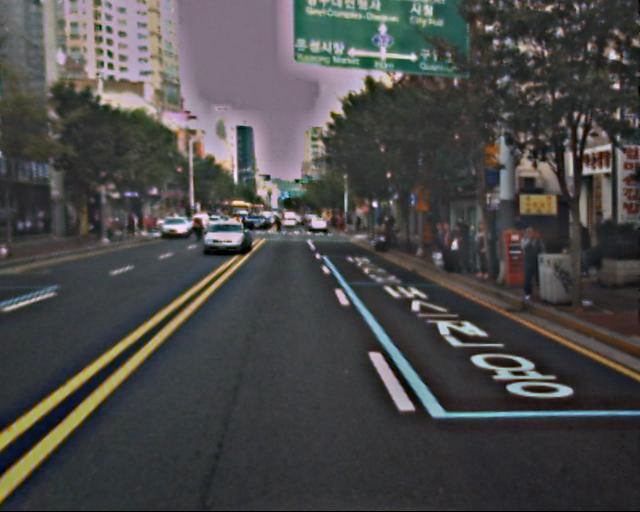person: (515, 224, 546, 300), (468, 222, 492, 281), (446, 221, 468, 274), (435, 220, 456, 271)
